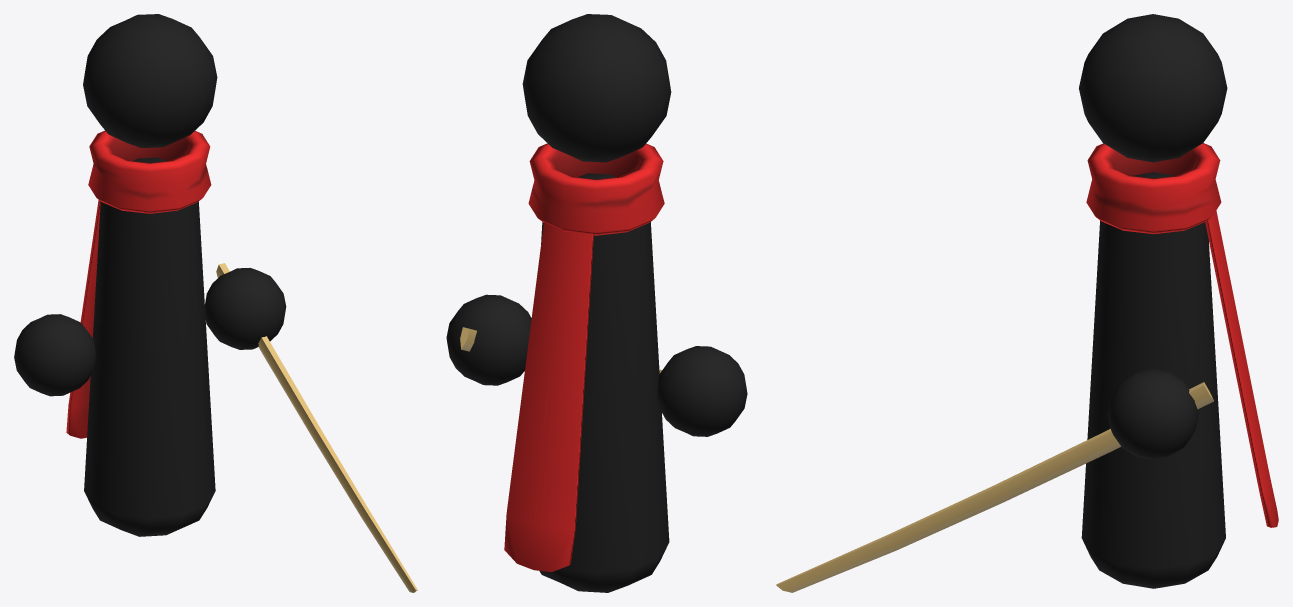
The picture shows the model from 3 angles, left to right: view 1: azimuth 30°, elevation 25°; view 2: azimuth 150°, elevation 25°; view 3: azimuth 270°, elevation 25°; orthographic projection. The views are drawn at different scales.
Parts seen in each view (by area): view 1: MD001_B; view 2: MD001_B; view 3: MD001_B.
Part boxes in pixels (box(x1,y1,x2,y2)): MD001_B: box(14, 14, 417, 592); MD001_B: box(446, 14, 747, 592); MD001_B: box(776, 14, 1278, 592).
Bounding box in the file's own units: 51.5 × 95.67 × 78.08.
